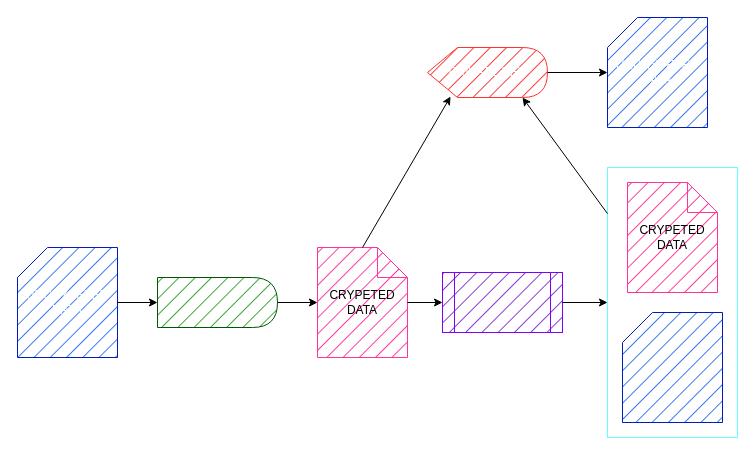
The diagram is 755 pixels wide and 455 high, and some of its shapes have lost their labels. The box of each missing label's shape, as (x1, y1, x2, y2) in pixels:
EVALUATION KEY: (442, 272, 562, 332)
METADATA: (622, 312, 722, 422)
PUBLIC KEY: (156, 276, 278, 328)
